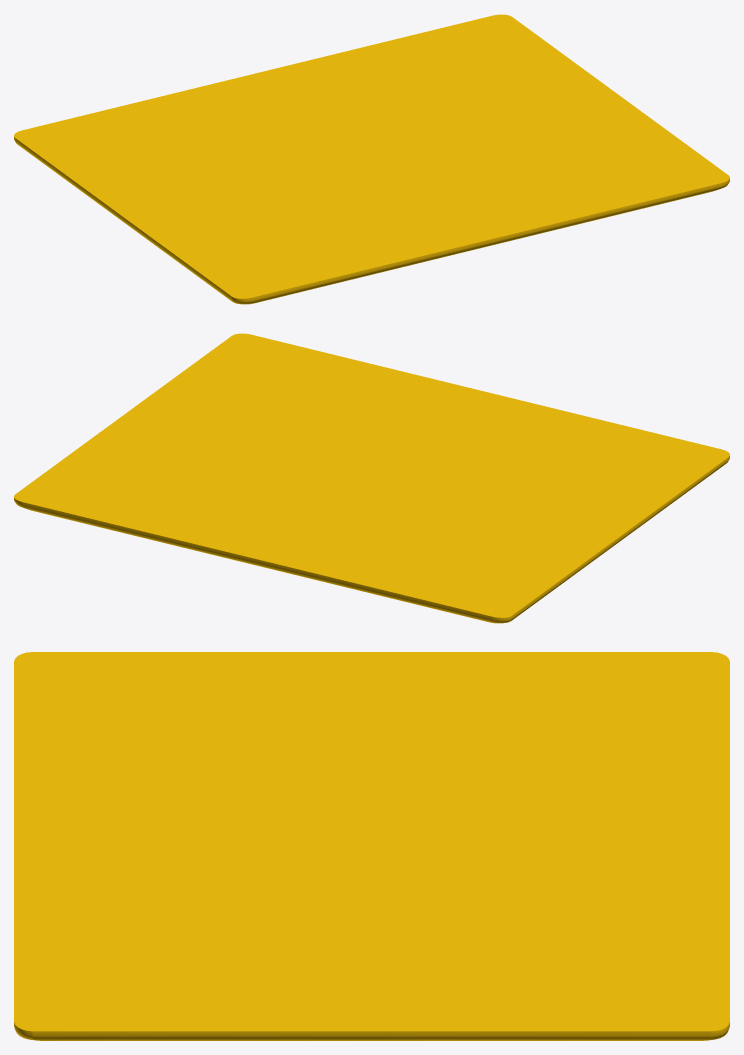
The model's file is Tablet.fbx.
3 renders of one model, top to bottom at view 1: azimuth 30°, elevation 25°; view 2: azimuth 150°, elevation 25°; view 3: azimuth 270°, elevation 25°, orthographic. The views are drawn at different scales.
Parts seen in each view (by area): view 1: Cube; view 2: Cube; view 3: Cube.
Part boxes in pixels (x1,y1,x2,y2): Cube: [14, 14, 729, 304]; Cube: [14, 333, 729, 623]; Cube: [14, 652, 729, 1040].
Size of the model in its own units: 121 by 5.97 by 96.56.
